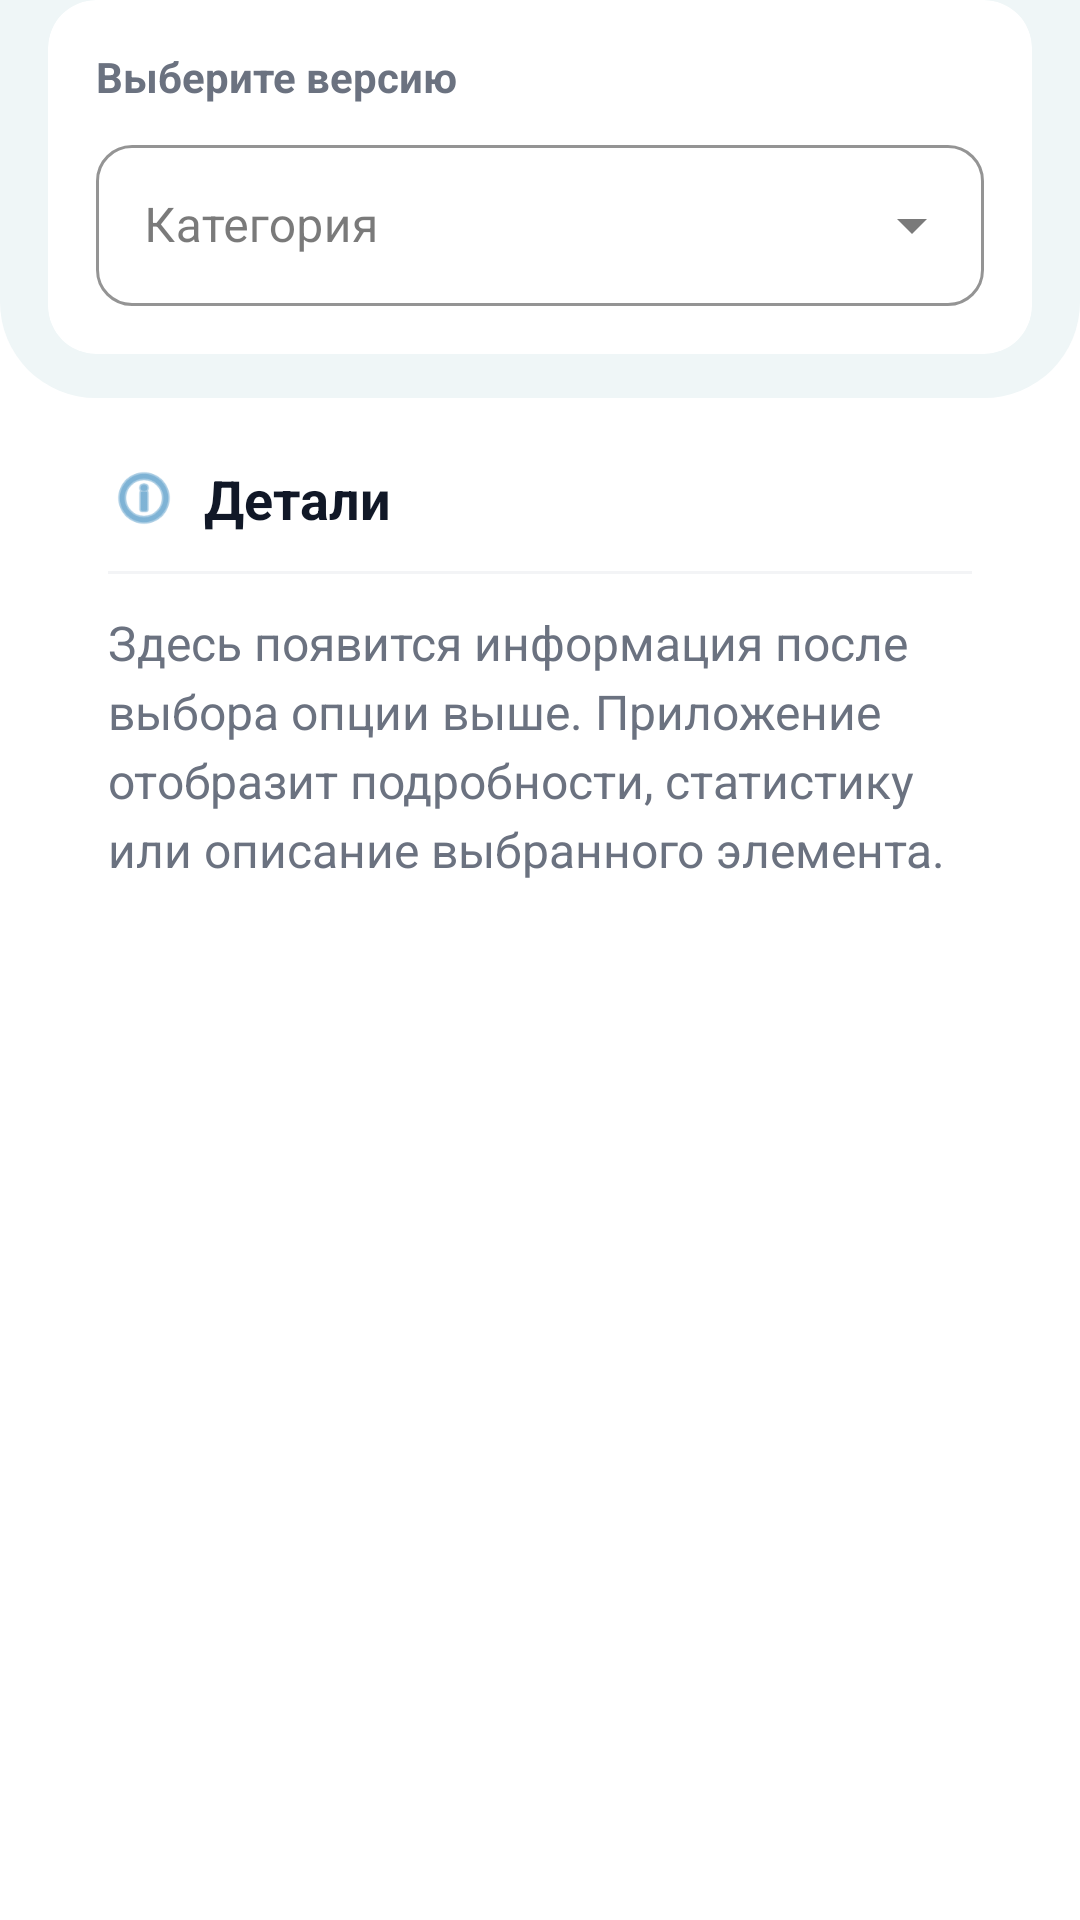

Point at icon controls on the screen. Image size 1080 x 1920, points as point (x, y).
info details: point (144, 498)
